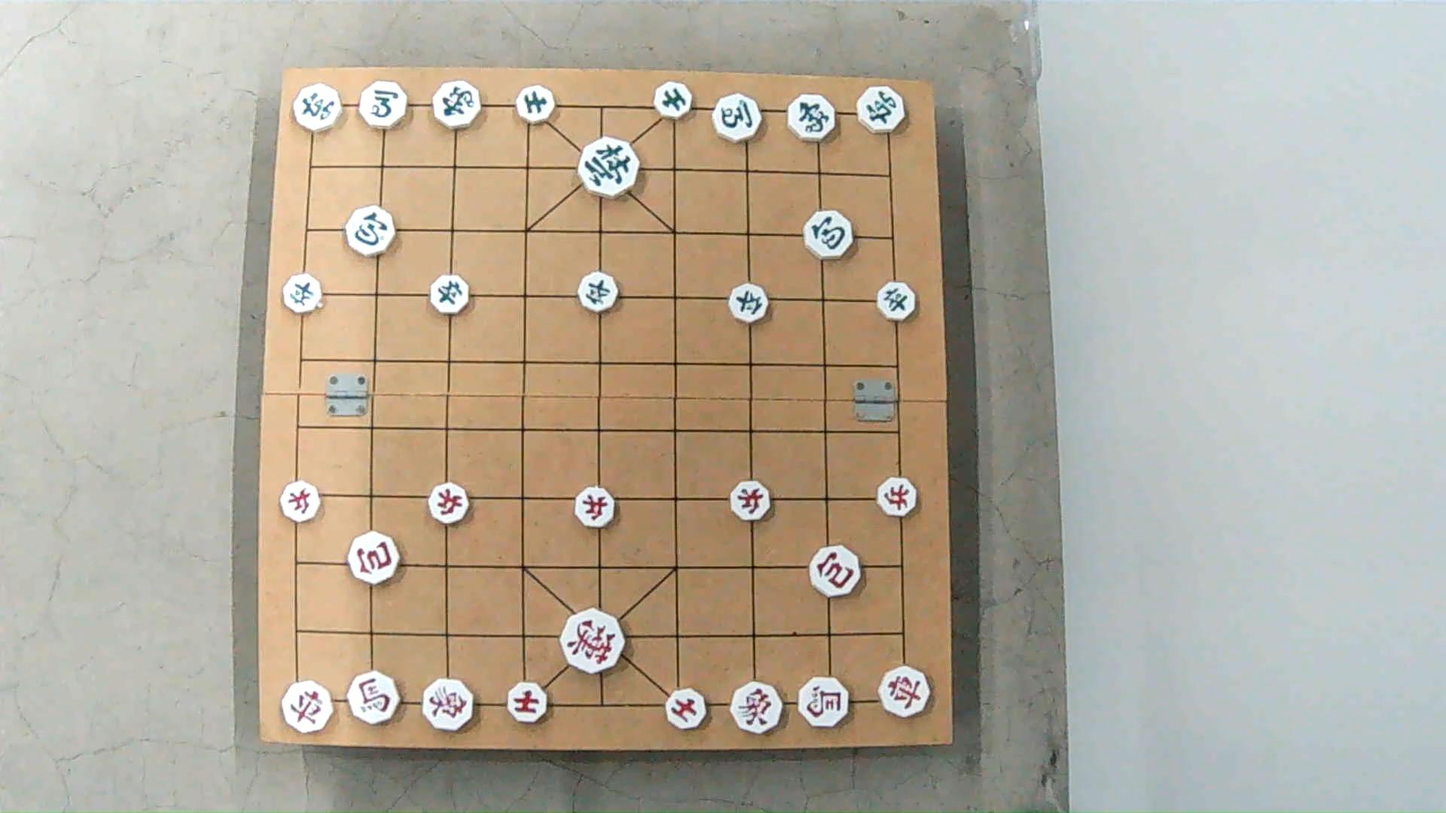cha_green: (291, 82, 341, 130), (857, 89, 906, 134)
cha_red: (282, 678, 332, 731), (878, 669, 930, 718)
jol_green: (282, 275, 326, 312), (576, 273, 618, 311), (431, 276, 474, 313), (877, 283, 917, 321), (727, 287, 767, 324)
jol_red: (429, 485, 472, 524), (577, 488, 619, 527), (282, 483, 323, 522), (876, 477, 918, 515), (729, 482, 770, 520)
ma_green: (712, 93, 762, 142), (362, 83, 411, 128)
ma_red: (796, 674, 849, 729), (349, 671, 401, 722)
po_green: (343, 208, 395, 254), (804, 211, 854, 258)
po_red: (350, 534, 402, 585), (807, 548, 860, 597)
sa_green: (651, 83, 693, 117), (517, 86, 557, 121)
sa_red: (663, 690, 706, 729), (505, 682, 547, 721)
sang_green: (432, 80, 481, 128), (788, 95, 838, 139)
sang_red: (421, 680, 474, 732), (731, 683, 783, 730)
wang_green: (579, 140, 642, 197)
wang_red: (560, 614, 627, 674)
